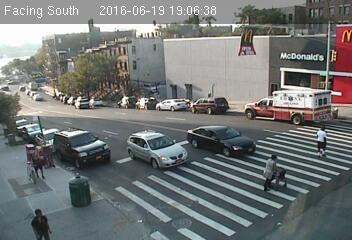neg: (173, 166, 205, 209), (199, 181, 226, 217), (222, 132, 244, 161), (205, 139, 224, 164), (243, 144, 258, 165), (274, 132, 283, 145)
pos: (256, 154, 287, 196), (308, 122, 336, 160), (27, 204, 51, 236)
